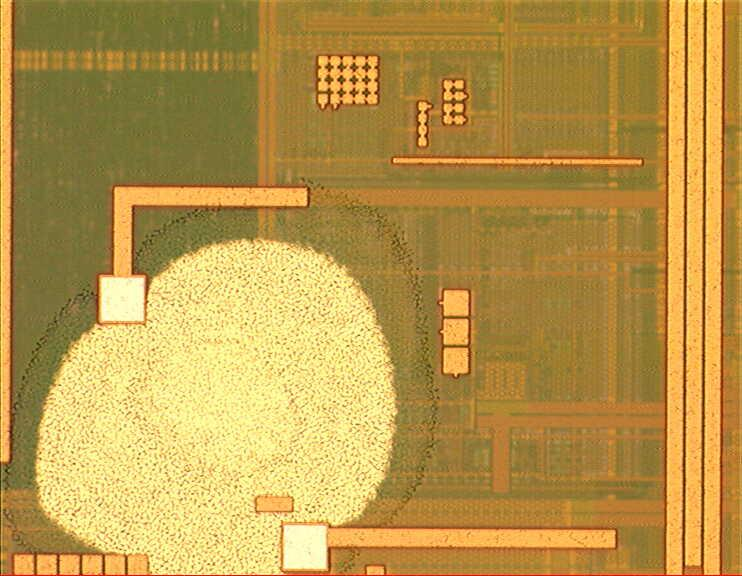BLOCK ETCH: (1, 177, 444, 576)
